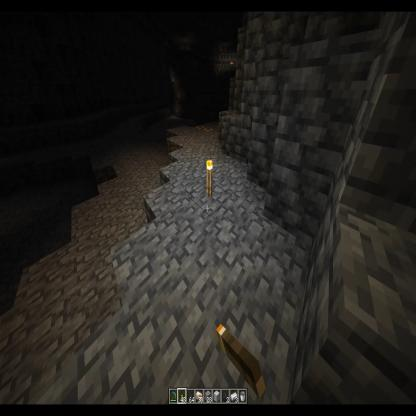gold ore: (194, 122, 216, 135)
